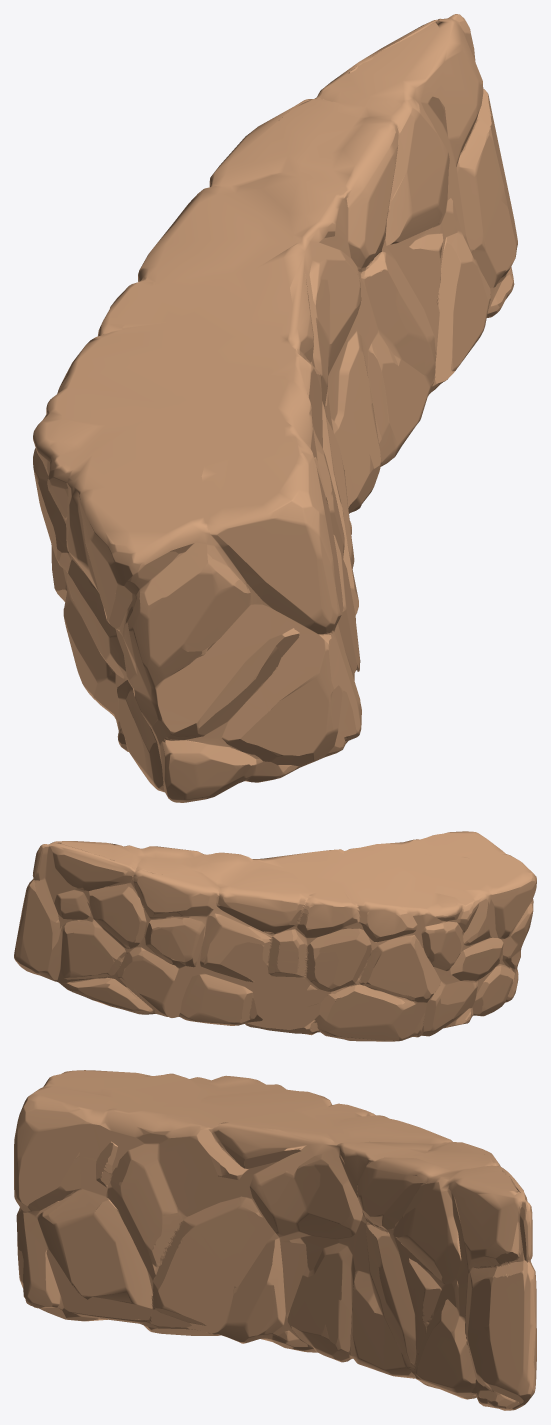
The picture shows the model from 3 angles, top to bottom: view 1: azimuth 30°, elevation 25°; view 2: azimuth 150°, elevation 25°; view 3: azimuth 270°, elevation 25°; orthographic projection. The views are drawn at different scales.
Visible parts, largest first — view 1: Mesh_30_LOD0; view 2: Mesh_30_LOD0; view 3: Mesh_30_LOD0.
Boxes of the visible parts, x1,y1,x2,y2 form: Mesh_30_LOD0: (33,14,517,802); Mesh_30_LOD0: (14,831,536,1041); Mesh_30_LOD0: (14,1070,536,1410).
Size of what is drawn, in the model's own units: 5496 by 3015 by 4822.
